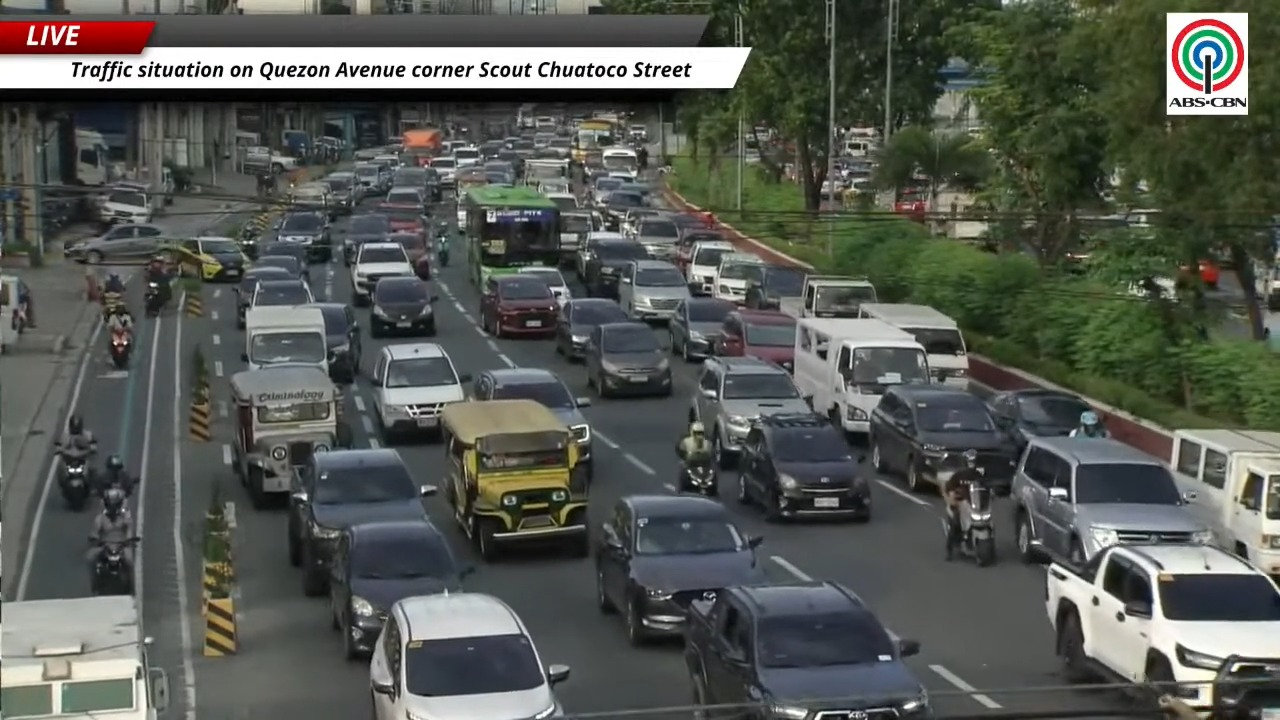bus: (461, 186, 559, 287), (572, 118, 617, 164)
car: (684, 581, 931, 719), (1009, 437, 1218, 566), (595, 496, 766, 643), (370, 593, 569, 719), (287, 448, 435, 596), (329, 518, 472, 658), (868, 385, 1016, 493), (738, 412, 870, 520), (689, 357, 810, 468), (473, 368, 592, 477), (372, 343, 471, 441), (584, 321, 672, 397), (988, 388, 1091, 451), (713, 310, 796, 370), (479, 274, 558, 336), (555, 298, 628, 360), (618, 260, 690, 321), (668, 297, 736, 361), (351, 242, 415, 306), (369, 277, 437, 337), (583, 238, 650, 298), (66, 223, 164, 264), (573, 211, 627, 284), (236, 266, 298, 329), (675, 225, 732, 293), (315, 302, 361, 383), (174, 236, 248, 282), (686, 233, 736, 295), (275, 212, 331, 261), (744, 265, 806, 309), (343, 213, 391, 266), (253, 241, 310, 282), (632, 214, 679, 261), (518, 266, 571, 305), (287, 181, 337, 220), (247, 279, 314, 308), (602, 187, 645, 231), (377, 201, 428, 234), (322, 172, 362, 214), (386, 231, 429, 266), (620, 207, 664, 238), (392, 167, 430, 200), (353, 162, 389, 196), (379, 186, 426, 212), (542, 182, 579, 212), (591, 174, 622, 207), (431, 156, 457, 190), (420, 167, 441, 202), (452, 145, 481, 167)
motorcycle: (955, 482, 996, 566), (91, 536, 139, 595), (59, 455, 91, 511), (680, 463, 717, 496), (93, 469, 133, 498), (110, 330, 131, 368), (144, 280, 164, 317), (437, 244, 449, 267)
truck: (1045, 544, 1279, 717), (0, 596, 167, 719), (1169, 428, 1279, 579), (793, 317, 929, 434), (860, 303, 968, 388), (242, 306, 328, 373), (779, 274, 876, 318), (74, 127, 111, 186), (240, 145, 297, 174)
